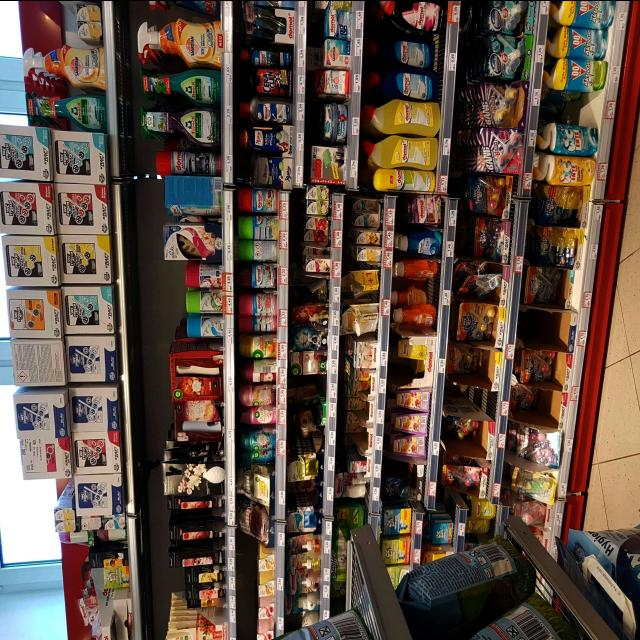empty_space: (522, 310, 562, 334), (570, 100, 602, 120), (536, 389, 558, 412)
